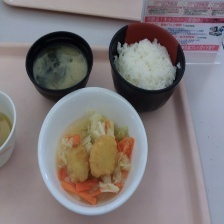rice: (114, 37, 177, 91)
